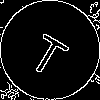T: (25, 25, 75, 79)
